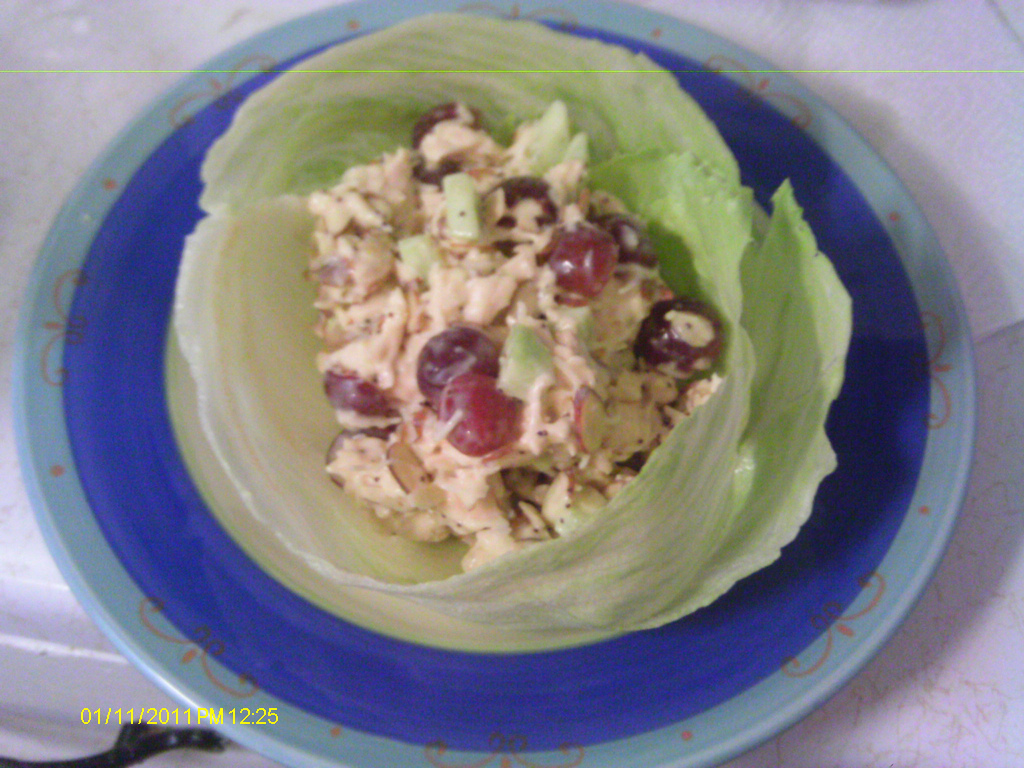chopped lettuce: (262, 478, 794, 657), (662, 129, 835, 645), (235, 20, 697, 179), (188, 104, 328, 545)
